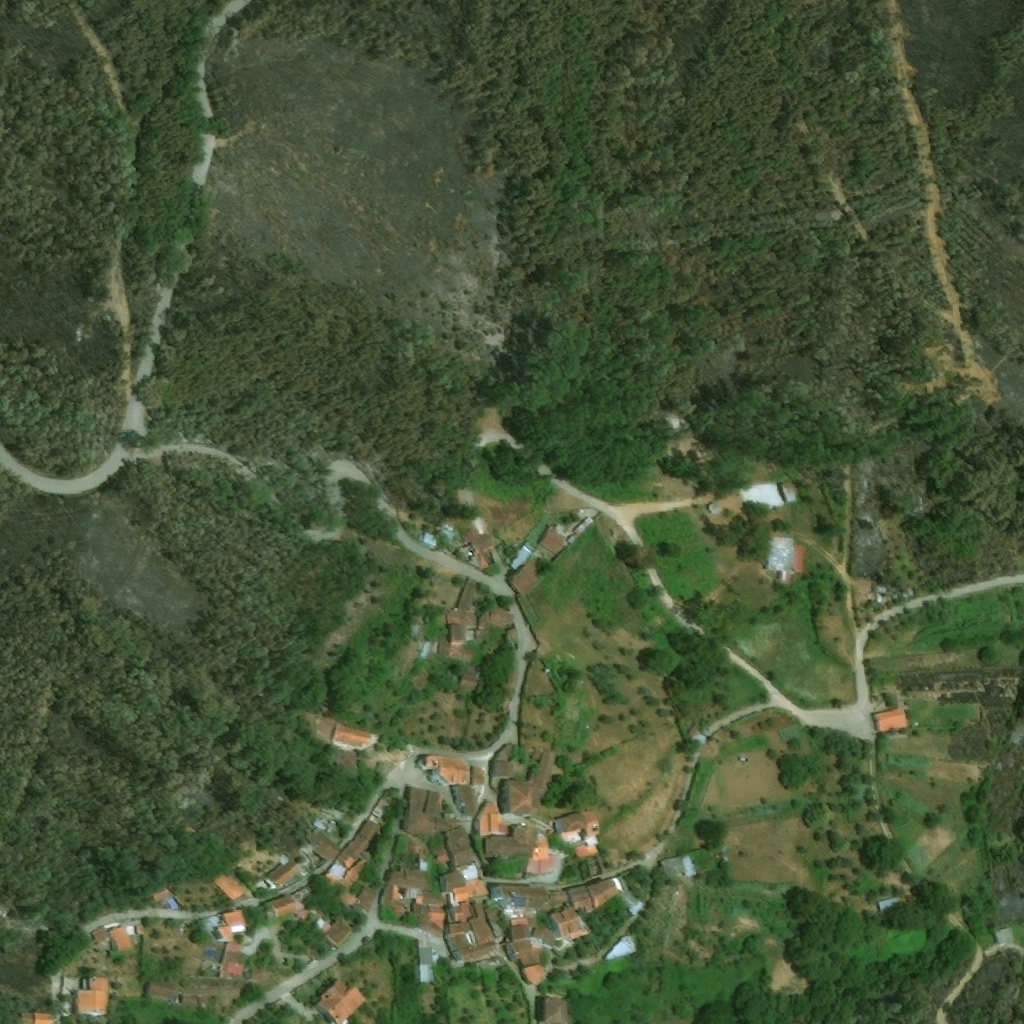0 no-damage: (507, 746, 557, 816), (591, 876, 649, 918), (316, 978, 369, 1023), (337, 818, 381, 868), (765, 535, 809, 583), (401, 787, 439, 839), (337, 859, 371, 910), (492, 881, 550, 910), (485, 823, 534, 856), (552, 807, 603, 838), (659, 850, 704, 884), (549, 906, 591, 942), (445, 826, 478, 871), (528, 826, 558, 875), (426, 755, 472, 786), (458, 767, 486, 817), (93, 924, 138, 955), (438, 862, 479, 895), (511, 924, 546, 962), (469, 901, 498, 946), (78, 976, 111, 1014), (331, 724, 378, 749), (465, 533, 495, 572), (476, 802, 510, 836), (872, 707, 911, 736), (308, 829, 342, 862), (215, 908, 250, 940), (600, 934, 640, 962), (213, 871, 249, 902), (447, 611, 478, 647), (538, 520, 568, 556), (319, 859, 351, 891), (451, 942, 499, 963), (451, 879, 491, 904), (489, 743, 517, 778), (267, 894, 308, 917), (220, 943, 246, 979), (508, 565, 538, 596), (445, 921, 479, 948), (369, 793, 395, 828), (540, 997, 575, 1023), (270, 860, 304, 886), (437, 640, 477, 662), (419, 909, 447, 940), (568, 883, 597, 912), (394, 837, 423, 866), (567, 516, 595, 546), (390, 869, 430, 889), (325, 918, 353, 946), (381, 886, 408, 914), (419, 940, 436, 984), (992, 923, 1020, 949), (521, 552, 549, 578), (507, 547, 532, 574), (148, 982, 179, 1003), (355, 887, 380, 913), (520, 943, 546, 968), (523, 964, 550, 988), (479, 609, 515, 627), (575, 836, 602, 859), (532, 926, 557, 950), (453, 587, 477, 611), (444, 932, 471, 953), (778, 479, 800, 504), (877, 895, 905, 913), (532, 544, 556, 565), (337, 750, 359, 772), (314, 813, 338, 833), (458, 672, 482, 692), (323, 803, 348, 822), (425, 790, 444, 814), (438, 815, 463, 833), (151, 884, 174, 903), (23, 1011, 57, 1023), (460, 900, 478, 921), (433, 844, 450, 865), (417, 638, 434, 659), (446, 907, 464, 926), (404, 886, 428, 900), (412, 899, 430, 917), (548, 888, 568, 904), (422, 532, 440, 549), (417, 895, 443, 906), (506, 628, 520, 645), (313, 918, 328, 933), (419, 852, 430, 872), (401, 894, 413, 912), (183, 995, 199, 1008), (462, 531, 479, 543), (319, 923, 333, 937), (252, 968, 265, 983), (440, 531, 456, 543), (298, 909, 312, 921), (430, 640, 440, 655), (511, 918, 528, 926), (443, 525, 458, 534), (477, 630, 489, 641), (527, 916, 540, 926), (524, 541, 535, 552), (136, 925, 146, 935), (469, 631, 477, 641)
4 un-classified: (506, 665, 524, 695), (500, 696, 513, 713), (411, 624, 426, 636)
